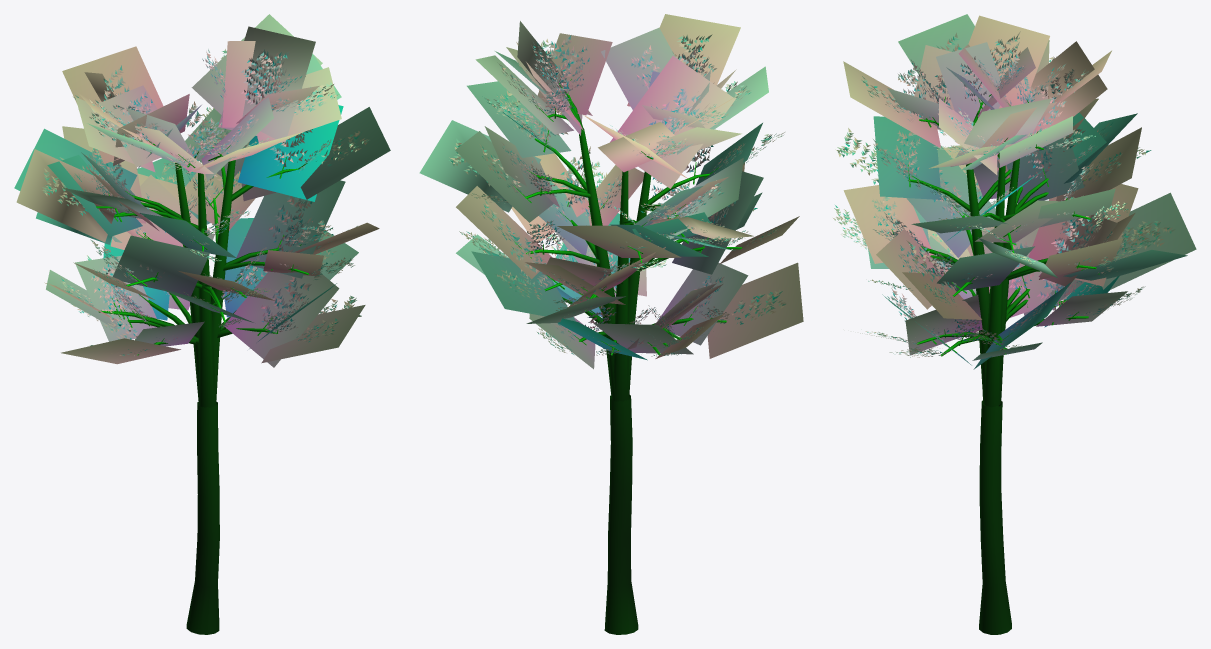
The model's file is hill_b_1.glb.
3 renders of one model, left to right at view 1: azimuth 30°, elevation 25°; view 2: azimuth 150°, elevation 25°; view 3: azimuth 270°, elevation 25°, orthographic. The views are drawn at different scales.
Parts seen in each view (by area): view 1: mid, near; view 2: mid, near; view 3: mid, near.
Boxes of the visible parts, box(x1,y1,x2,y2) form: mid: box(14, 14, 390, 407); near: box(42, 49, 369, 634); mid: box(419, 14, 803, 401); near: box(449, 34, 786, 634); mid: box(843, 14, 1196, 407); near: box(833, 31, 1175, 634).
Bounding box in the file's own units: 7.79 × 12.81 × 7.44.
